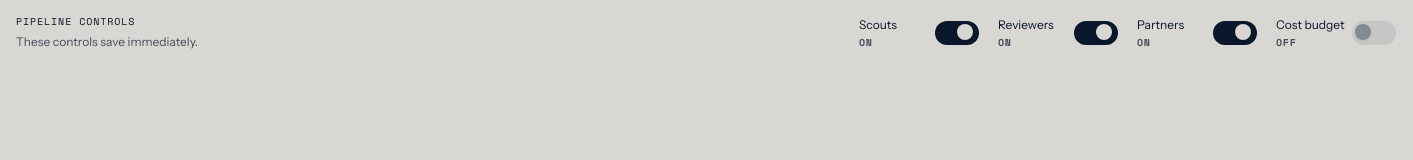
Scenario: OperationsStrip › rolls back only the failed control and explains the error
Click the switch named "partners".
click(1235, 33)  # box [1213,11,1257,55]
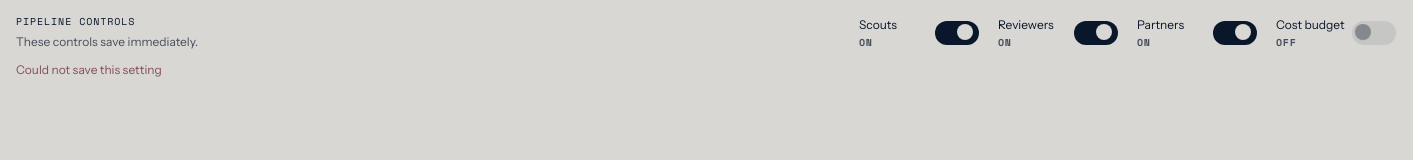
Expected: the message reads "Could not save this setting", [16,62,162,77]
